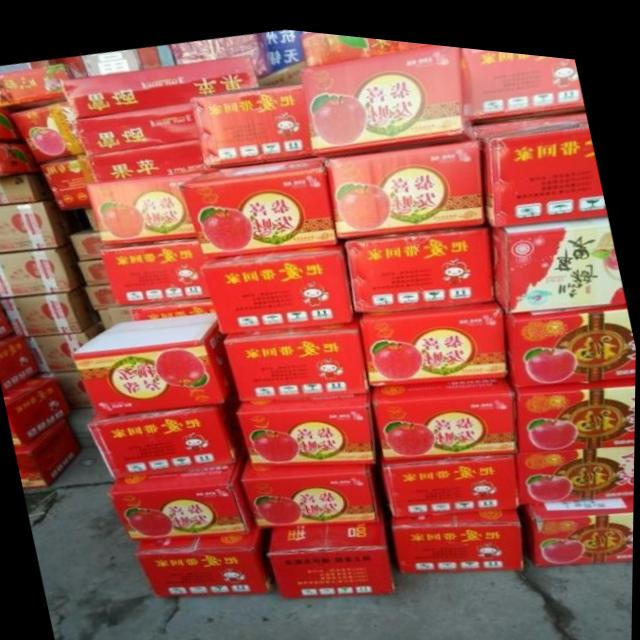box: (301, 35, 462, 145), (72, 307, 237, 412), (469, 98, 608, 215), (181, 151, 336, 255), (330, 129, 483, 229), (88, 391, 250, 477), (202, 239, 354, 330), (493, 203, 626, 303), (345, 218, 493, 305), (61, 50, 258, 115), (374, 366, 518, 451), (362, 292, 507, 375), (108, 456, 251, 538), (225, 315, 368, 396), (512, 291, 637, 375), (238, 386, 377, 459), (270, 514, 398, 593), (192, 78, 308, 159), (137, 522, 271, 592), (242, 456, 380, 521), (461, 38, 584, 110), (384, 442, 518, 507), (519, 366, 636, 440), (393, 498, 525, 562), (86, 169, 197, 243), (529, 481, 635, 552), (518, 430, 636, 491), (102, 236, 211, 302), (75, 99, 198, 151), (87, 135, 206, 179), (1, 285, 101, 336), (5, 375, 73, 445), (0, 241, 87, 295), (16, 417, 82, 487), (300, 25, 430, 60), (11, 99, 84, 161), (0, 198, 73, 253), (25, 321, 105, 371), (0, 62, 87, 105), (40, 152, 97, 207), (0, 332, 40, 391), (36, 369, 92, 407), (132, 293, 213, 316), (0, 173, 50, 205), (0, 143, 42, 171), (71, 225, 104, 258), (78, 257, 110, 283), (85, 282, 116, 307), (0, 109, 24, 138), (109, 303, 134, 322), (0, 306, 12, 339), (85, 206, 98, 229), (99, 307, 114, 326)
